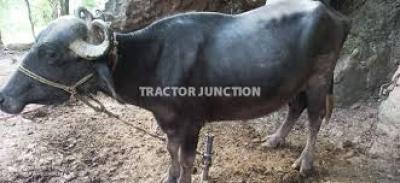buffalo: (0, 0, 350, 182)
